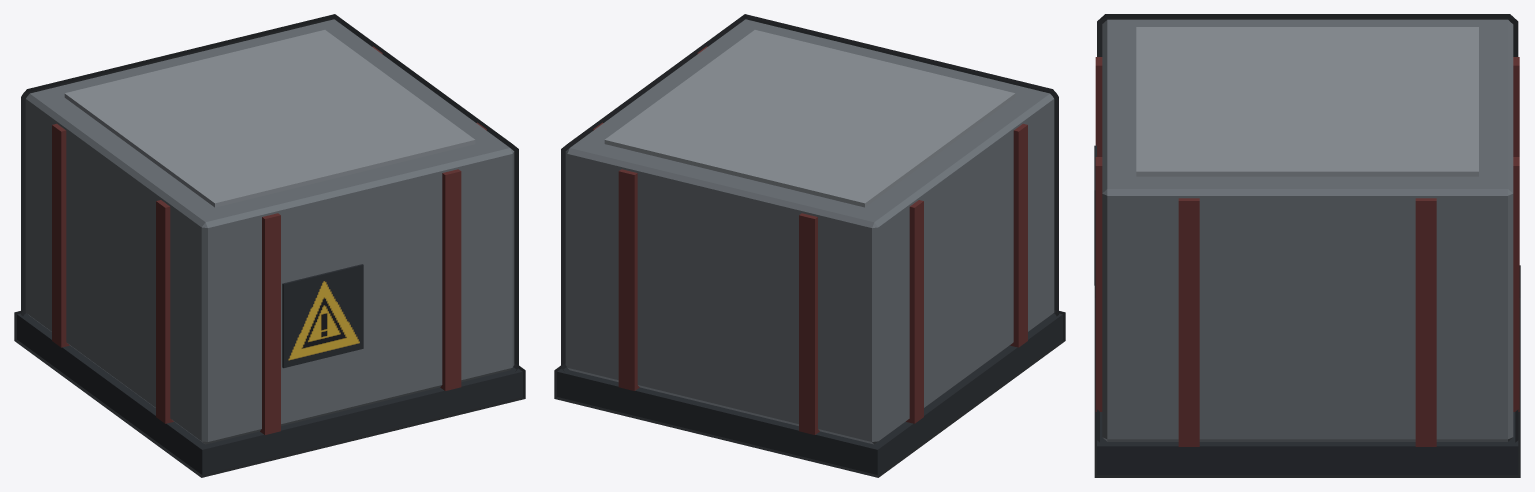
The model's file is SM_LowBox.glb.
3 renders of one model, left to right at view 1: azimuth 30°, elevation 25°; view 2: azimuth 150°, elevation 25°; view 3: azimuth 270°, elevation 25°, orthographic. The views are drawn at different scales.
Parts seen in each view (by area): view 1: SM_LowBox, SM_LowBox_Outline; view 2: SM_LowBox, SM_LowBox_Outline; view 3: SM_LowBox, SM_LowBox_Outline.
Part boxes in pixels (x1,y1,x2,y2): SM_LowBox: [17, 19, 522, 474]; SM_LowBox_Outline: [14, 14, 525, 477]; SM_LowBox: [557, 19, 1062, 474]; SM_LowBox_Outline: [554, 14, 1065, 477]; SM_LowBox: [1094, 19, 1519, 474]; SM_LowBox_Outline: [1094, 14, 1520, 477].
Size of the model in its own units: 1.62 by 1.21 by 1.62.
2 materials, 1 textured.
